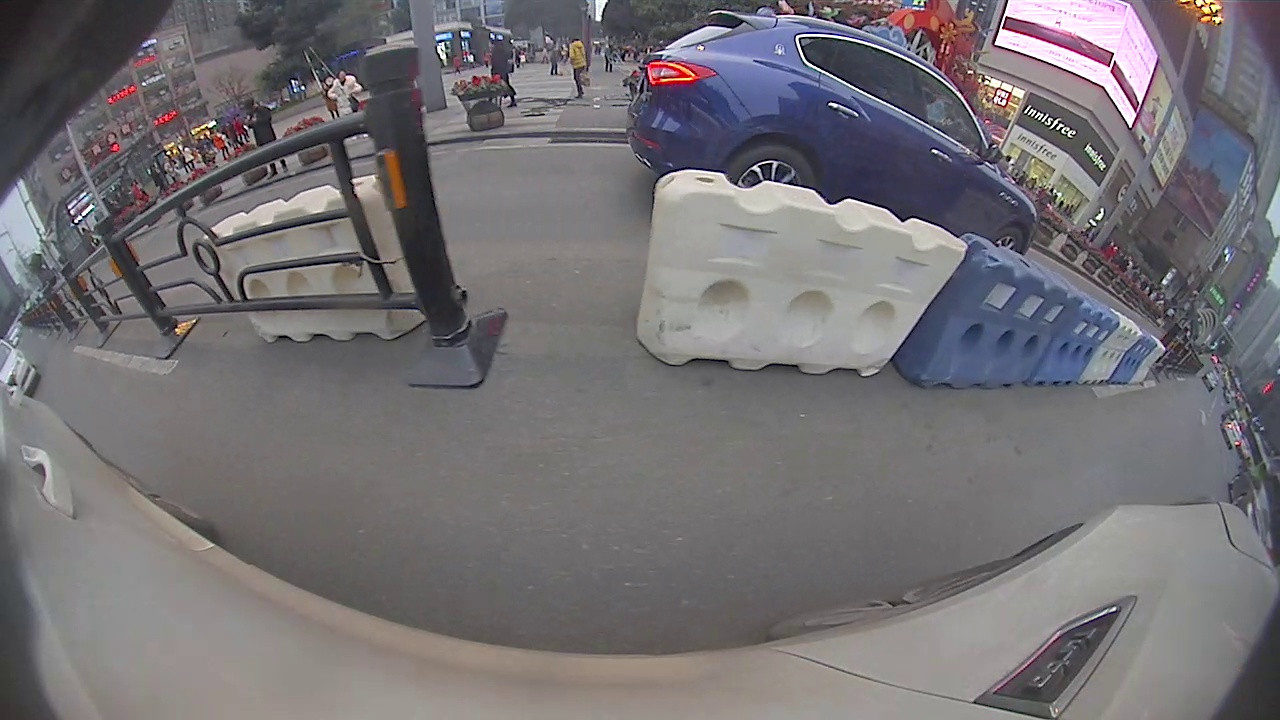car: (621, 21, 1040, 256)
front: (996, 229, 1026, 251)
rear: (722, 134, 818, 194)
